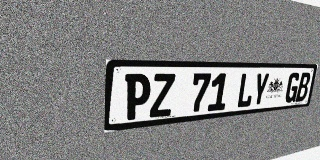1: (207, 73, 230, 111)
7: (188, 73, 212, 114)
B: (295, 72, 311, 102)
G: (284, 73, 301, 103)
L: (236, 73, 256, 108)
P: (123, 74, 151, 121)
Y: (251, 73, 270, 107)
Z: (149, 74, 175, 118)
